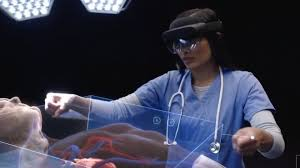hololens: (159, 16, 221, 51)
